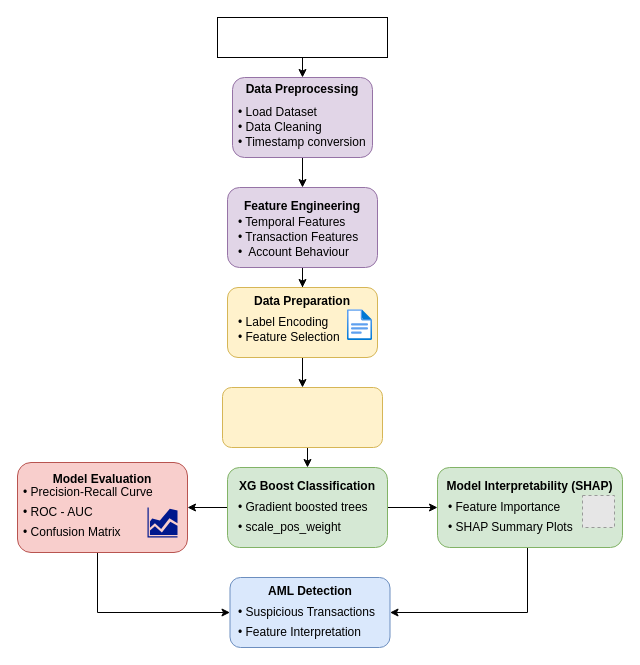
The diagram is 640 pixels wide and 665 high, and some of its shapes have lost their labels. Grey dashed boxes stand in for pictures. The shapes that lost their labels are listed below. From the top down, each one's centre as x and y in pixels, then its label:
At point 302,37: "Data Acquisition IBM AML Transaction Dataset".
At point 302,417: "Temporal Dataset Split 80% training 20% testing".
